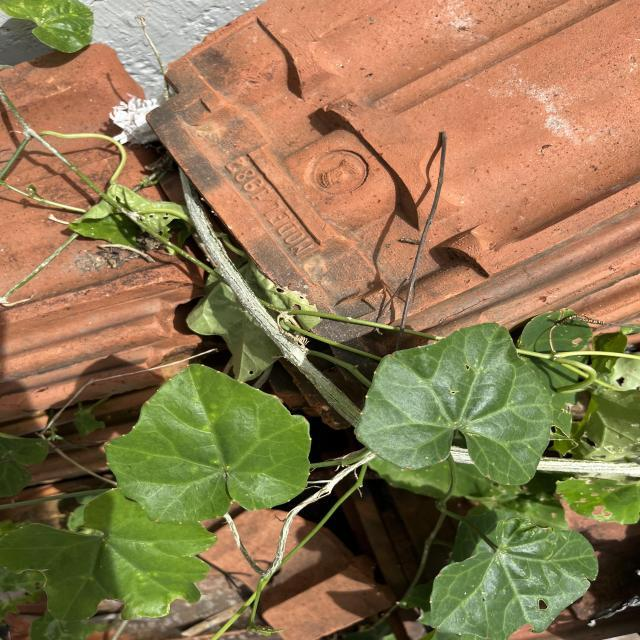Coccinia grandis: (101, 362, 314, 526), (352, 321, 556, 487)
